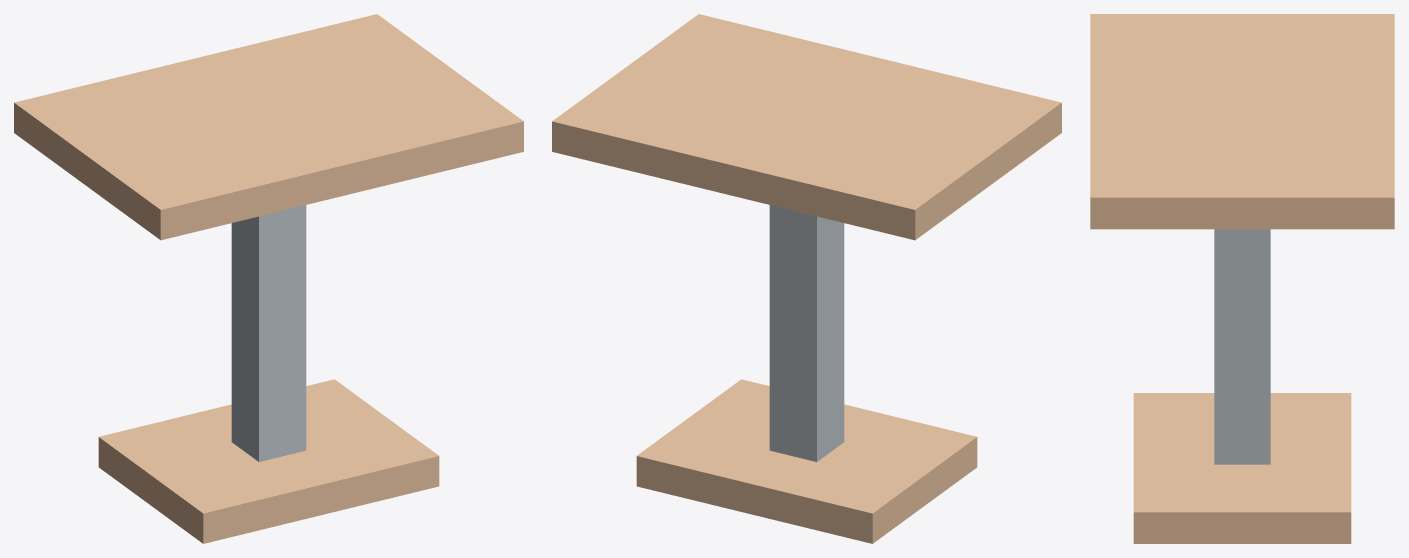
Rendered from lectern.glb.
3 views of the same model, side by side, from view 1: azimuth 30°, elevation 25°; view 2: azimuth 150°, elevation 25°; view 3: azimuth 270°, elevation 25° (orthographic). The views are drawn at different scales.
Size of the model in its own units: 1 by 0.96 by 0.7.
